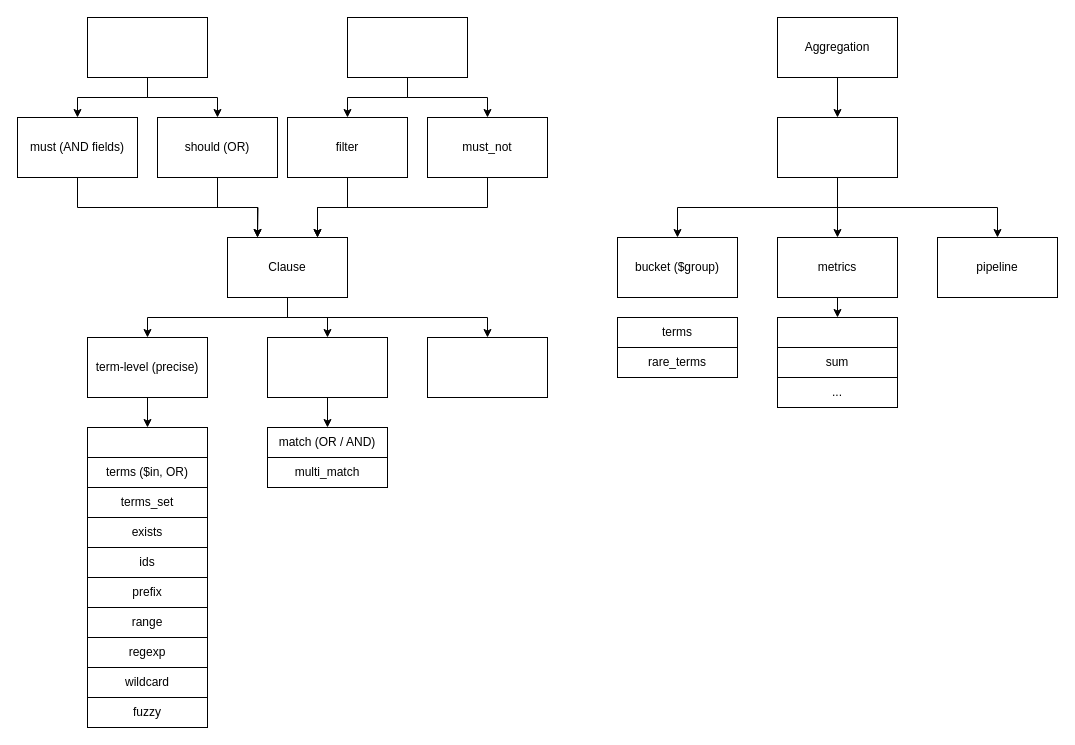
Some shapes in this 1075 by 745 pixel diagram are drawn without their labels. Here are the shapes that lost their labels. From the top down, the centre of each, then its label:
At (147,47): "Query Context (_score + sorting)".
At (407,47): "Filter Context (no _score + cache)".
At (837,147): "agg".
At (837,332): "avg".
At (327,367): "match (fulltext, analyzed)".
At (487,367): "Shape, Geo, etc".
At (147,442): "term".
